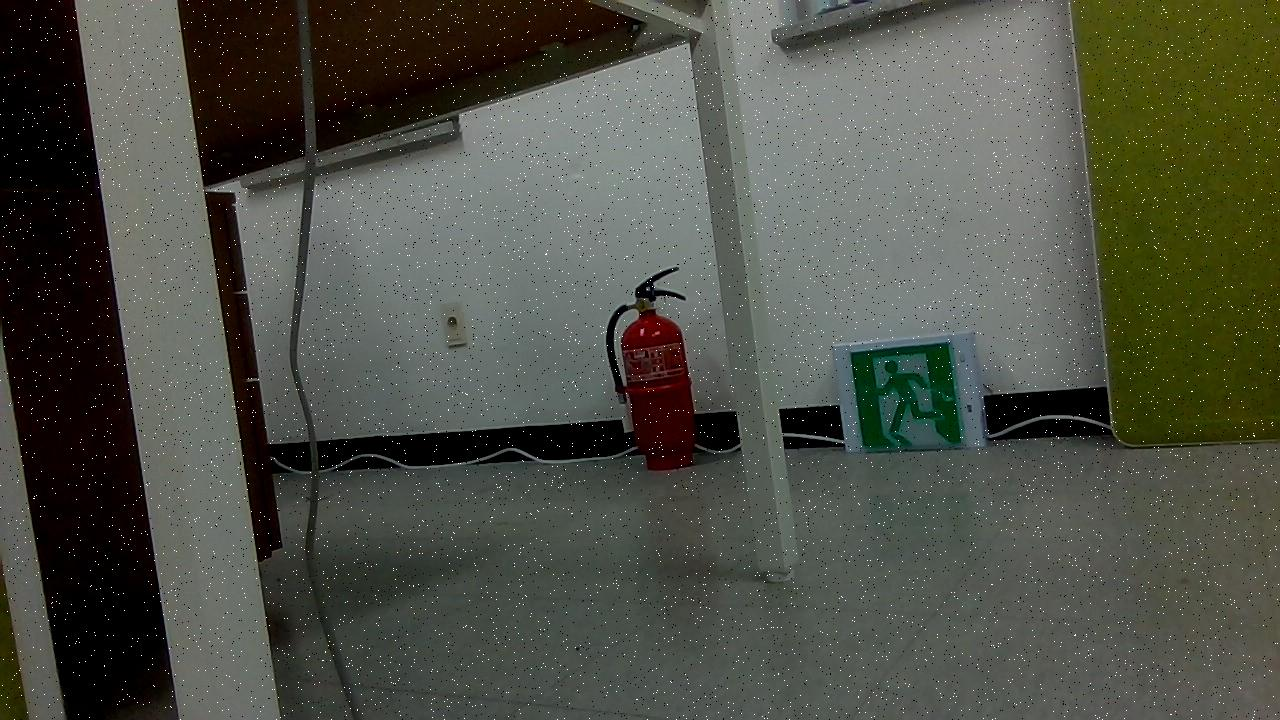emergency_exit: (832, 332, 984, 455)
